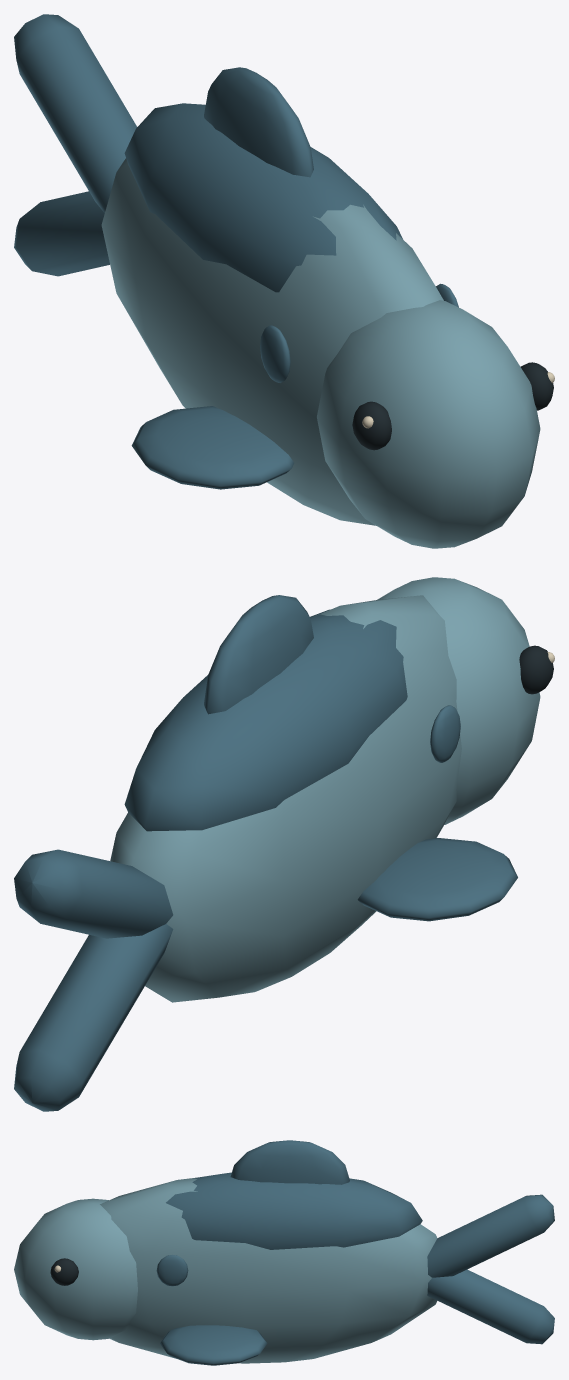
Rendered from org_menhaden.glb.
The picture shows the model from 3 angles, top to bottom: view 1: azimuth 30°, elevation 25°; view 2: azimuth 150°, elevation 25°; view 3: azimuth 270°, elevation 25°; orthographic projection. The views are drawn at different scales.
Parts seen in each view (by area): view 1: Body, Head, Tail, Fin_R, Eye_R, Eye_L; view 2: Body, Tail, Head, Fin_R, Eye_R; view 3: Body, Head, Tail, Fin_L, Eye_L.
Boxes of the visible parts, x1=… form: Body: x1=101, y1=67, x2=458, y2=525; Head: x1=317, y1=300, x2=540, y2=548; Tail: x1=14, y1=14, x2=136, y2=276; Fin_R: x1=131, y1=406, x2=294, y2=489; Eye_R: x1=352, y1=401, x2=391, y2=450; Eye_L: x1=520, y1=362, x2=554, y2=410; Body: x1=110, y1=595, x2=461, y2=1002; Tail: x1=14, y1=849, x2=173, y2=1111; Head: x1=377, y1=577, x2=540, y2=824; Fin_R: x1=357, y1=838, x2=517, y2=921; Eye_R: x1=519, y1=645, x2=554, y2=694; Body: x1=100, y1=1140, x2=437, y2=1363; Head: x1=14, y1=1198, x2=137, y2=1340; Tail: x1=427, y1=1194, x2=554, y2=1344; Fin_L: x1=160, y1=1325, x2=267, y2=1365; Eye_L: x1=50, y1=1258, x2=78, y2=1285.
Bounding box in the file's own units: 0.4935 × 0.5 × 1.11.
